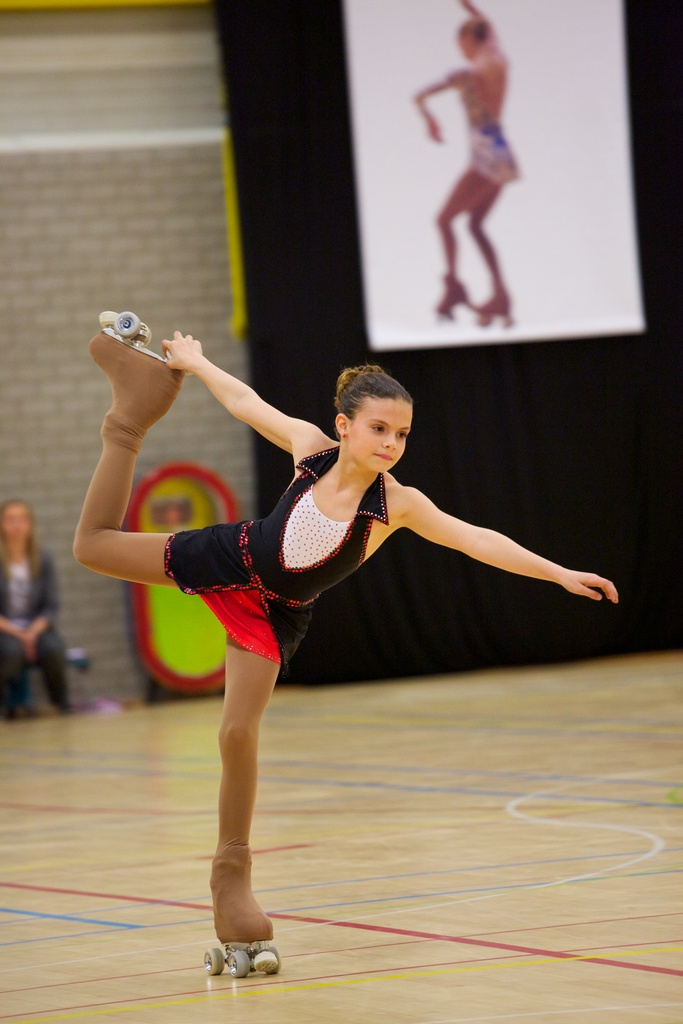Person: (71, 330, 618, 942)
